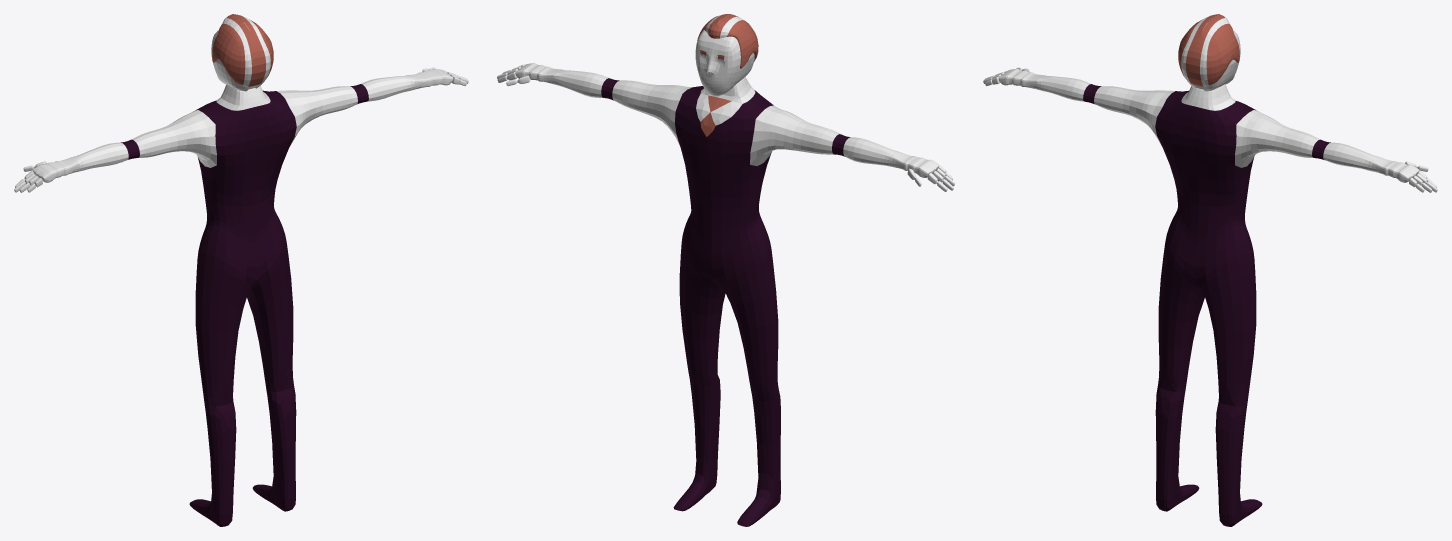
File: OOPlayer.fbx
3 renders of one model, left to right at view 1: azimuth 30°, elevation 25°; view 2: azimuth 150°, elevation 25°; view 3: azimuth 330°, elevation 25°, orthographic.
Visible parts, largest first — view 1: Cube.001; view 2: Cube.001; view 3: Cube.001.
Boxes of the visible parts, left/top/right/bottom form: Cube.001: left=14, top=14, right=468, bottom=526; Cube.001: left=497, top=14, right=954, bottom=526; Cube.001: left=983, top=14, right=1437, bottom=526.
Size of the model in its own units: 9.82 by 10.13 by 1.35.
Materials: 1 (1 with a texture image).
